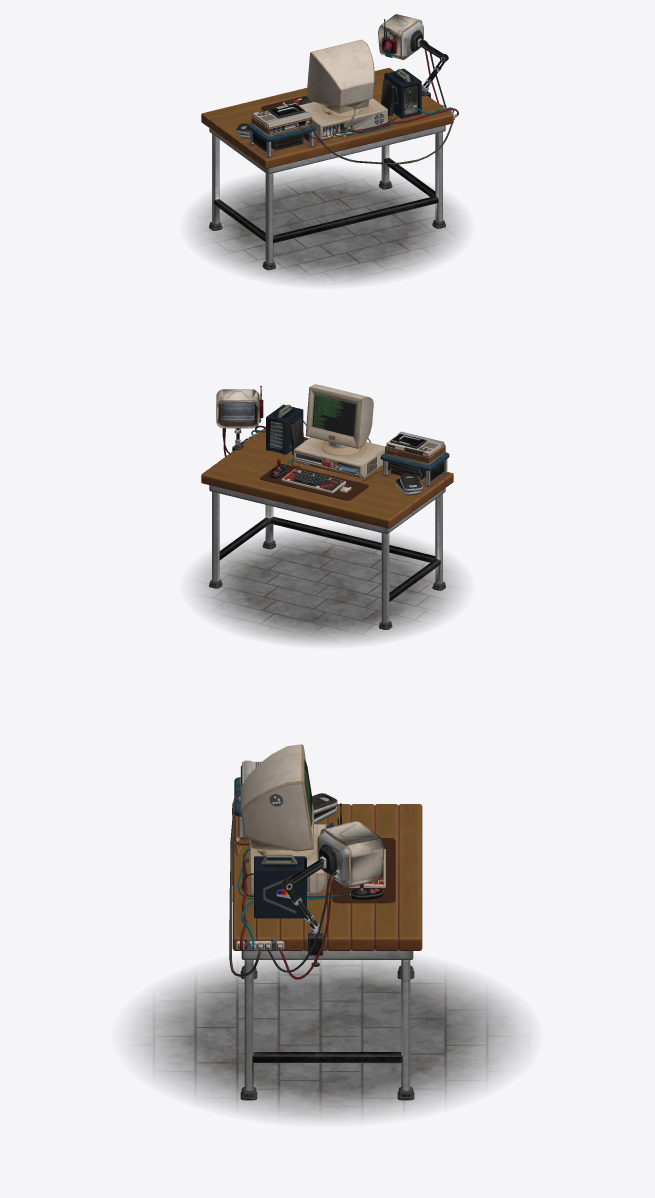
File: hacker-room-optimized.glb
3 renders of one model, top to bottom at view 1: azimuth 30°, elevation 25°; view 2: azimuth 150°, elevation 25°; view 3: azimuth 270°, elevation 25°, orthographic. The views are drawn at different scales.
Visible parts, largest first — view 1: table_table_mat_0; view 2: table_table_mat_0, screen_screens_0; view 3: table_table_mat_0.
Part boxes in pixels (x1,y1,x2,y2): table_table_mat_0: (190, 14, 464, 284); table_table_mat_0: (190, 384, 464, 644); screen_screens_0: (221, 394, 355, 436); table_table_mat_0: (126, 744, 528, 1121).
Size of the model in its own units: 272 by 119 by 245.
Materials: 14 (14 with a texture image).
